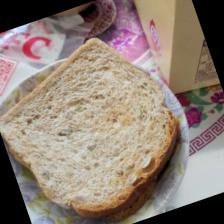bread: (0, 19, 201, 224)
